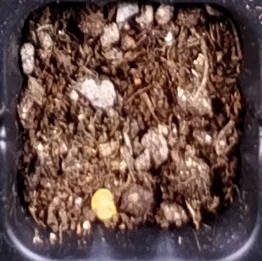chilli seed: (90, 188, 115, 220)
